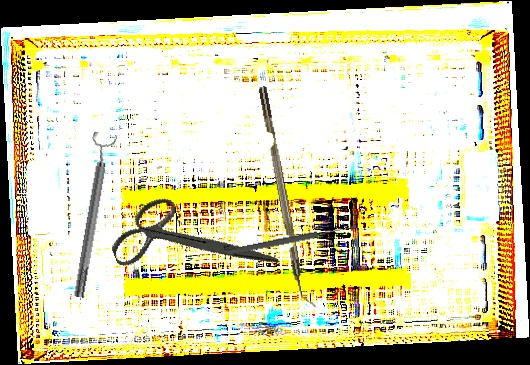Chopper: (258, 84, 317, 311)
Fixation Ring: (64, 131, 120, 299)
Iris Scissors: (100, 164, 280, 321)
Surgical Spoon: (226, 223, 357, 257)
